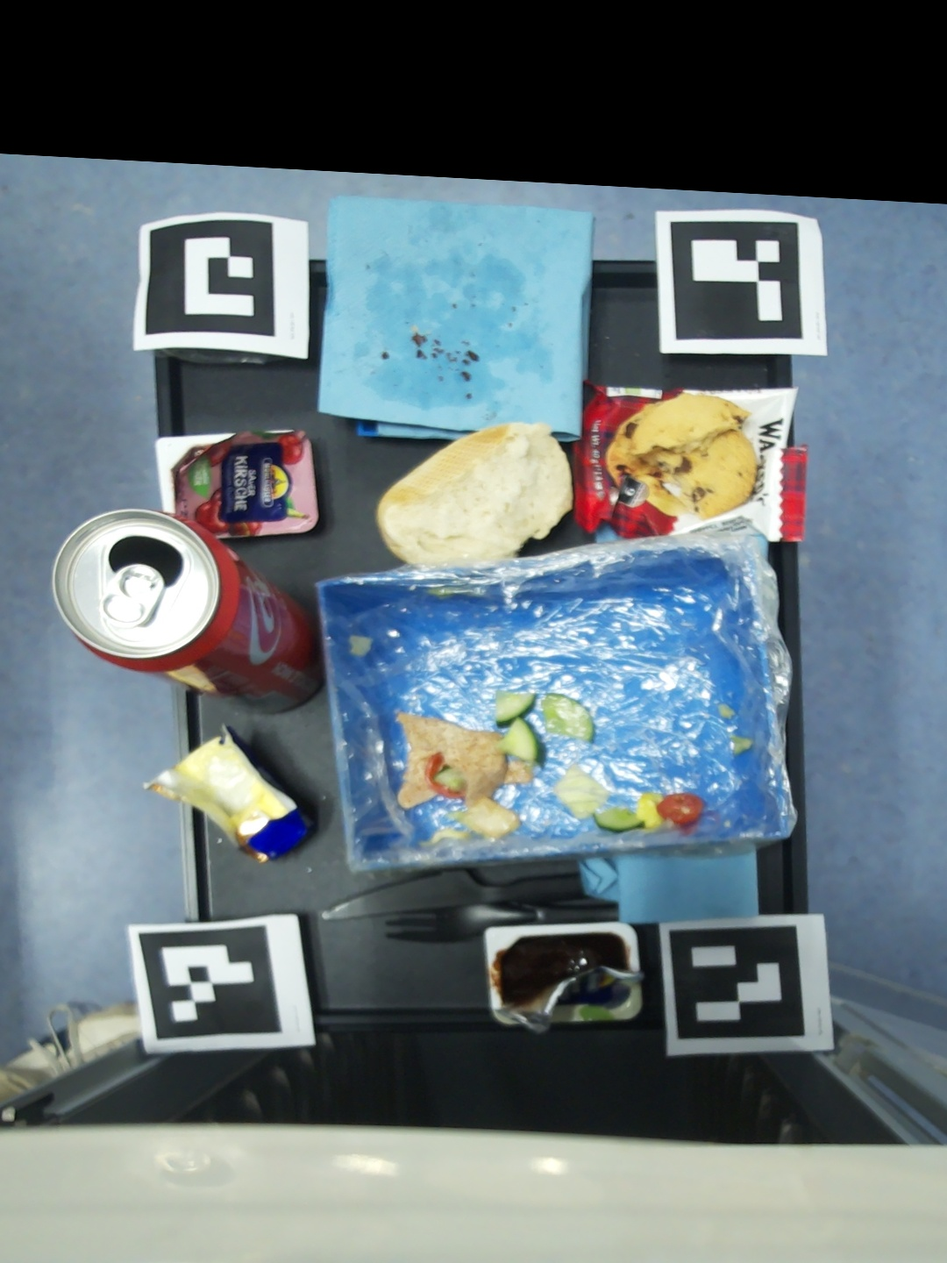bread_roll: (377, 422, 571, 564)
butter: (143, 723, 315, 864)
cherry_jam: (154, 428, 319, 537)
cola_can: (51, 510, 324, 713)
cookie: (572, 379, 807, 542)
plum_jam: (484, 922, 644, 1035)
wrap_half_1: (396, 692, 547, 839), (554, 762, 704, 833), (541, 693, 595, 744), (419, 828, 470, 846), (731, 734, 752, 755), (349, 637, 372, 655), (428, 588, 456, 599), (718, 703, 736, 719)
